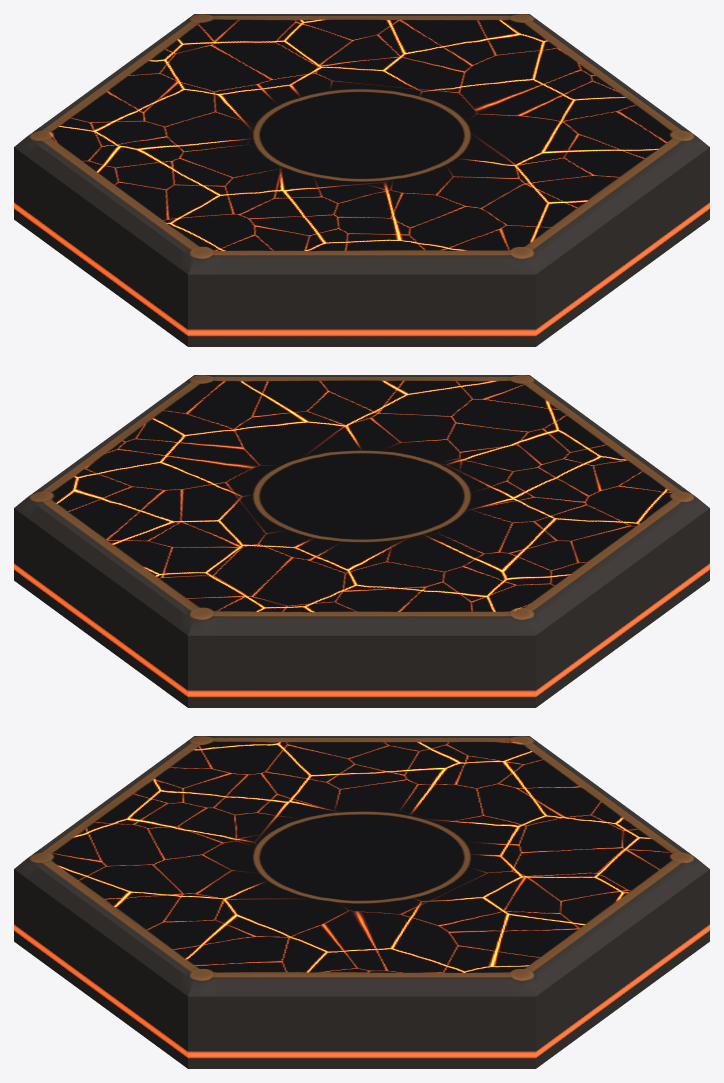
Rendered from hex_obsidian.fbx.
The picture shows the model from 3 angles, top to bottom: view 1: azimuth 30°, elevation 25°; view 2: azimuth 150°, elevation 25°; view 3: azimuth 270°, elevation 25°; orthographic projection.
Visible parts, largest first — view 1: hex_obsidian; view 2: hex_obsidian; view 3: hex_obsidian.
Part boxes in pixels (x1,y1,x2,y2): hex_obsidian: (14,14,709,346); hex_obsidian: (14,375,709,707); hex_obsidian: (14,736,709,1068).
Size of the model in its own units: 2 by 0.312 by 2.31.
